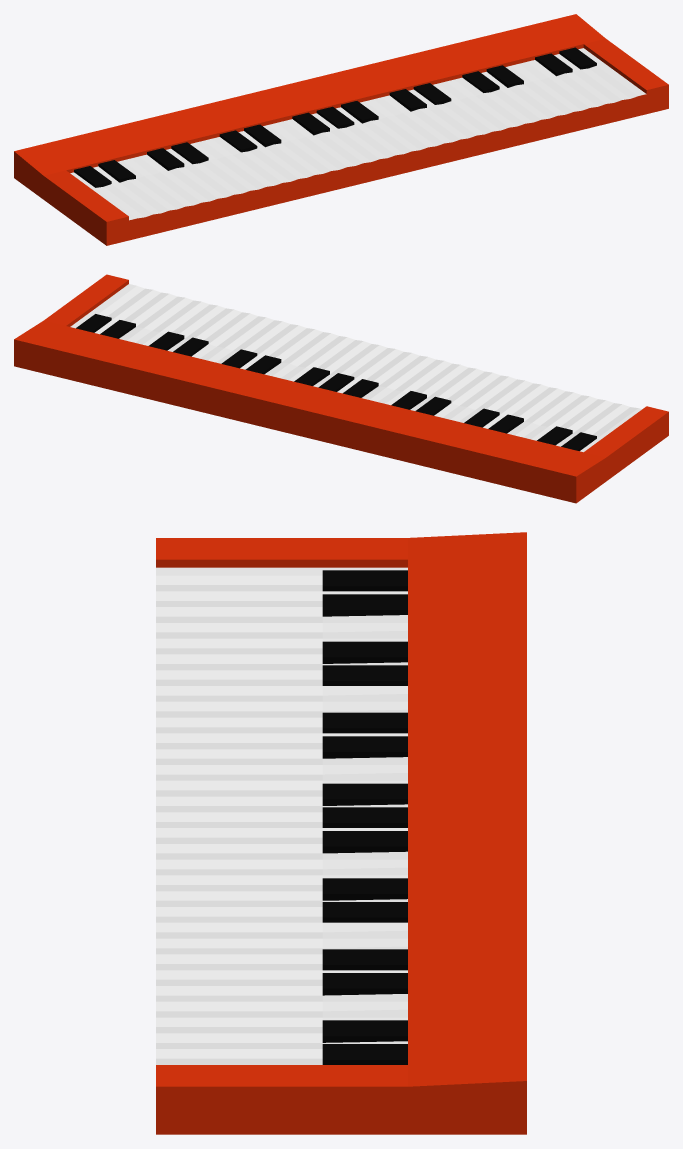
Rendered from UIKeyboard.fbx.
3 views of the same model, one above another, from view 1: azimuth 30°, elevation 25°; view 2: azimuth 150°, elevation 25°; view 3: azimuth 270°, elevation 25° (orthographic). The views are drawn at different scales.
Parts seen in each view (by area): view 1: UIKeyboard; view 2: UIKeyboard; view 3: UIKeyboard.
Part boxes in pixels (<box>): UIKeyboard: <box>14,14,668,245</box>; UIKeyboard: <box>14,274,668,503</box>; UIKeyboard: <box>156,532,526,1134</box>.
Bounding box in the file's own units: 700 × 32.04 × 200.
